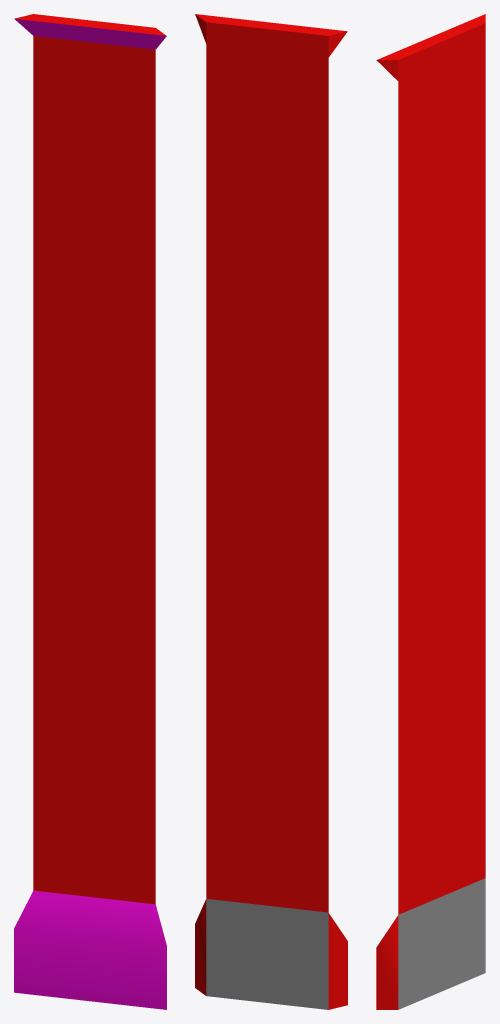
3 renders of one model, left to right at view 1: azimuth 30°, elevation 25°; view 2: azimuth 210°, elevation 25°; view 3: azimuth 270°, elevation 25°, orthographic. The views are drawn at different scales.
Visible parts, largest first — view 1: ModularWall005; view 2: ModularWall005; view 3: ModularWall005.
Boxes of the visible parts, x1=… form: ModularWall005: x1=14, y1=14, x2=166, y2=1009; ModularWall005: x1=195, y1=14, x2=347, y2=1009; ModularWall005: x1=376, y1=14, x2=485, y2=1009.
Size of the model in its own units: 12.5 by 120 by 12.5.
